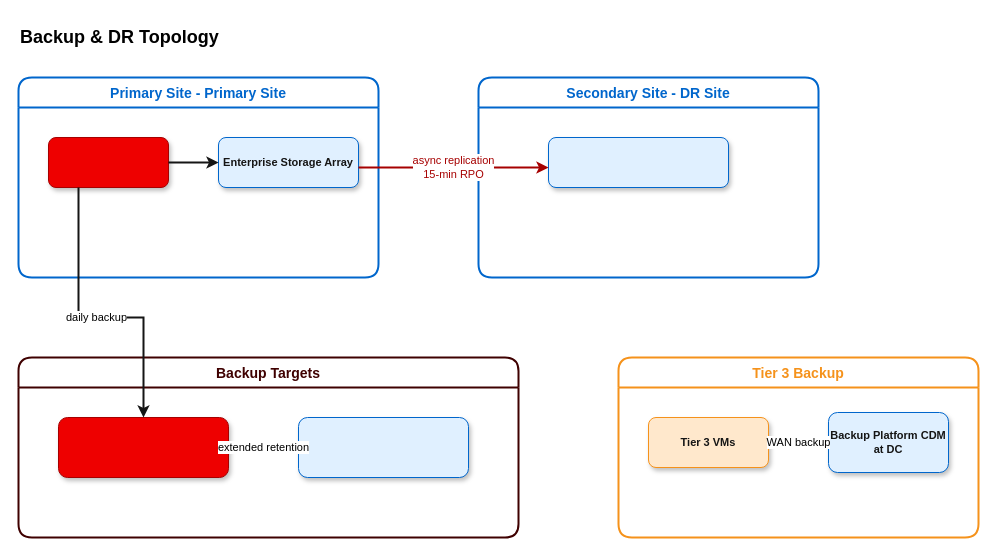
Image size: 996x555. Some labels were removed from this diagram. Each missing label, with the centre of its shape:
"Backup Platform CDM VM Disk Snapshots" belongs at pixel 144 448.
"Enterprise Storage Array Async Replication" belongs at pixel 639 163.
"Object Storage Long-term Retention" belongs at pixel 384 448.
"VMs" belongs at pixel 109 163.
